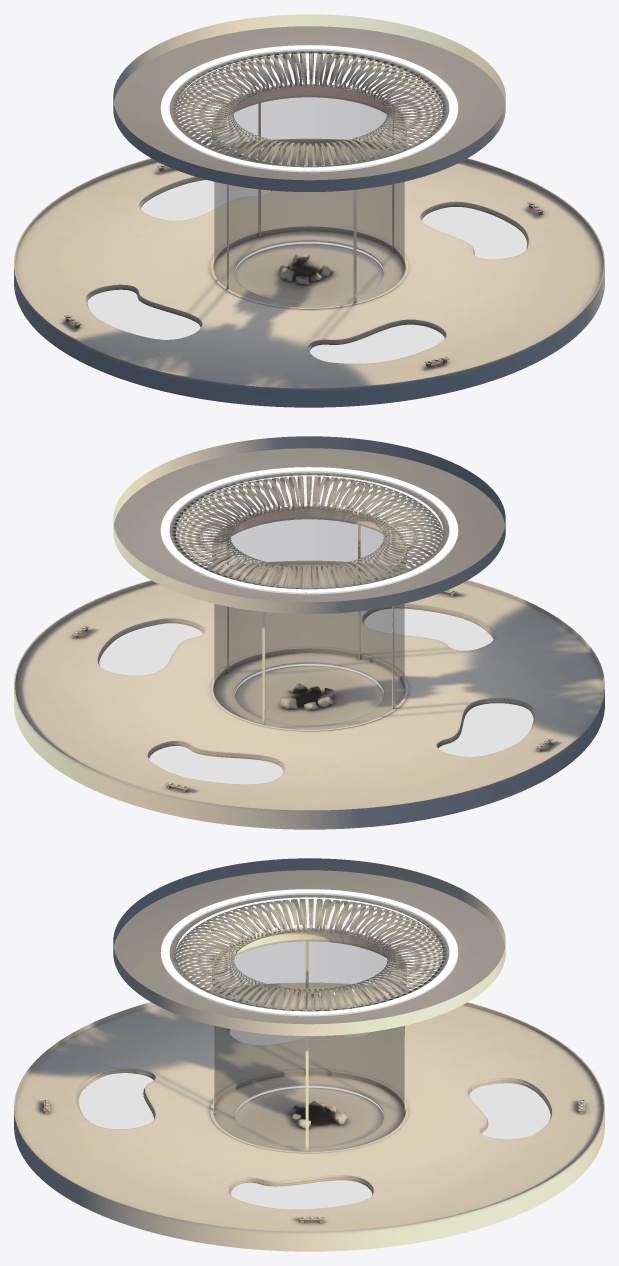
Rendered from Store 1038.glb.
The picture shows the model from 3 angles, top to bottom: view 1: azimuth 30°, elevation 25°; view 2: azimuth 150°, elevation 25°; view 3: azimuth 270°, elevation 25°; orthographic projection.
Visible parts, largest first — view 1: Floor_Baked, Roof_Baked, Glass, Wood_Baked, Water, Roof Emission, Floor inner_Baked, Roof Boundary_Baked, Rod_Baked, Stone_Baked; view 2: Floor_Baked, Roof_Baked, Glass, Wood_Baked, Water, Floor inner_Baked, Roof Emission, Roof Boundary_Baked, Rod_Baked, Stone_Baked; view 3: Floor_Baked, Roof_Baked, Glass, Wood_Baked, Water, Roof Emission, Floor inner_Baked, Roof Boundary_Baked, Rod_Baked, Stone_Baked.
Part boxes in pixels (left/top/right/bottom): Floor_Baked: left=14, top=138, right=604, bottom=407; Roof_Baked: left=113, top=14, right=505, bottom=191; Glass: left=214, top=95, right=404, bottom=307; Wood_Baked: left=175, top=53, right=443, bottom=170; Water: left=87, top=180, right=527, bottom=363; Roof Emission: left=160, top=45, right=458, bottom=170; Floor inner_Baked: left=86, top=178, right=528, bottom=352; Roof Boundary_Baked: left=212, top=84, right=406, bottom=166; Rod_Baked: left=227, top=103, right=394, bottom=302; Stone_Baked: left=279, top=253, right=333, bottom=284; Floor_Baked: left=14, top=560, right=604, bottom=829; Roof_Baked: left=113, top=436, right=505, bottom=613; Glass: left=214, top=517, right=404, bottom=729; Wood_Baked: left=175, top=476, right=443, bottom=592; Water: left=99, top=608, right=533, bottom=784; Floor inner_Baked: left=98, top=605, right=534, bottom=773; Roof Emission: left=160, top=467, right=458, bottom=592; Roof Boundary_Baked: left=212, top=506, right=406, bottom=588; Rod_Baked: left=226, top=525, right=394, bottom=724; Stone_Baked: left=279, top=683, right=334, bottom=710; Floor_Baked: left=14, top=982, right=604, bottom=1251; Roof_Baked: left=113, top=858, right=505, bottom=1035; Glass: left=214, top=939, right=404, bottom=1151; Wood_Baked: left=175, top=899, right=443, bottom=1010; Water: left=78, top=1029, right=550, bottom=1209; Roof Emission: left=160, top=889, right=458, bottom=1014; Floor inner_Baked: left=77, top=1029, right=551, bottom=1195; Roof Boundary_Baked: left=212, top=928, right=406, bottom=1010; Rod_Baked: left=213, top=941, right=405, bottom=1151; Stone_Baked: left=289, top=1101, right=347, bottom=1128.
Bounding box in the file's own units: 50.37 × 17.45 × 50.37.
12 materials, 9 textured.
